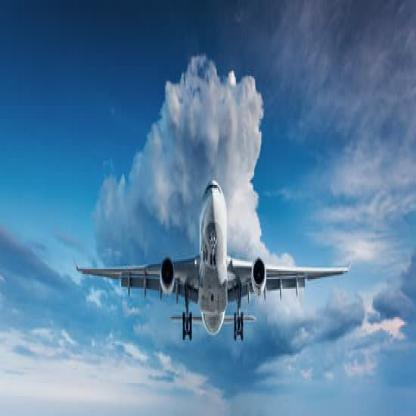CIV_Plane: (72, 174, 351, 350)
